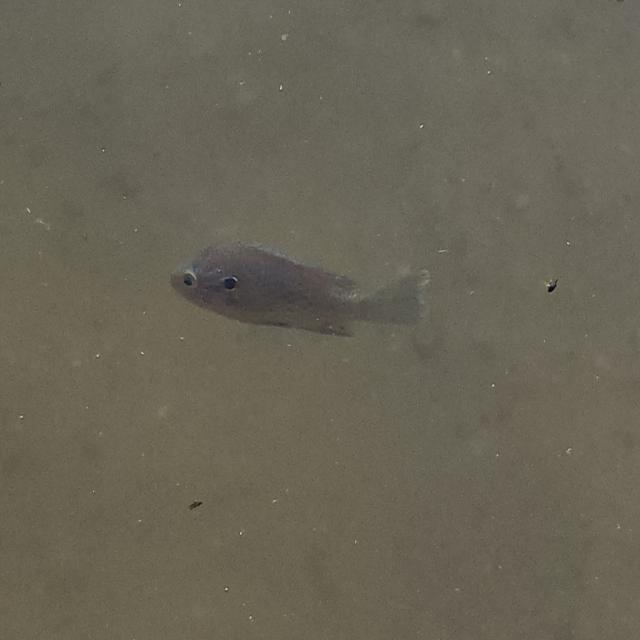Gunes Levregi: (168, 237, 432, 339)
